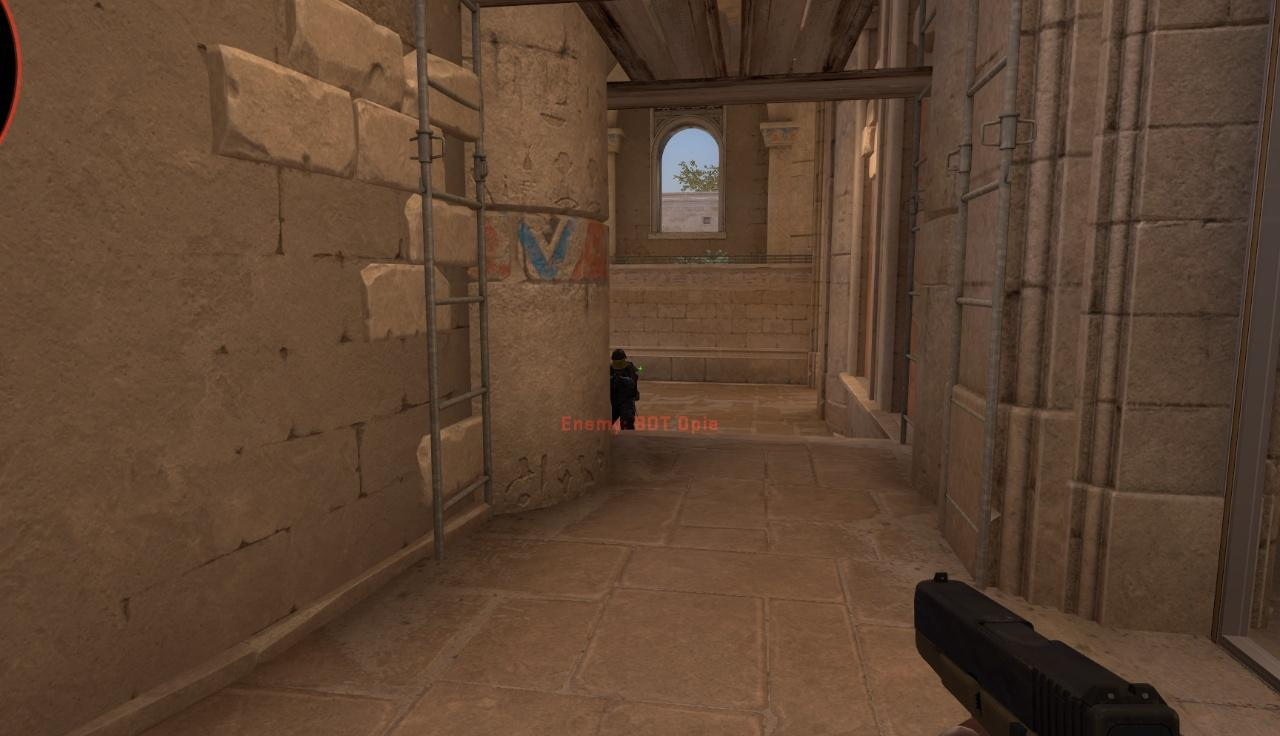ct: (609, 349, 640, 430)
cthead: (611, 348, 627, 370)
pistol: (911, 571, 1181, 731)
